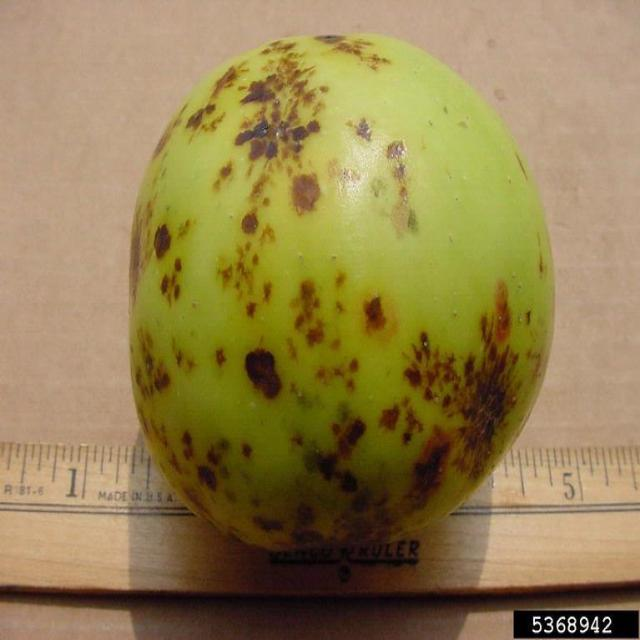Rotten: (122, 25, 552, 552)
